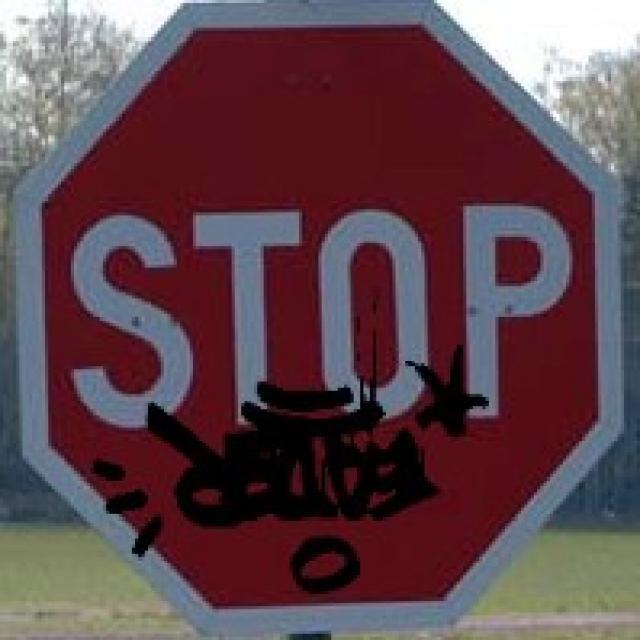Stop-Sign: (70, 44, 578, 576)
